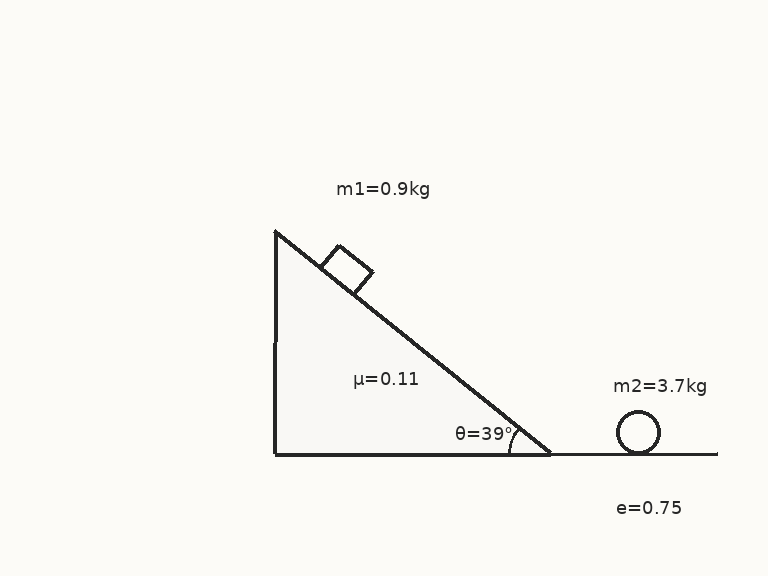ball: (614, 408, 662, 456)
block: (318, 243, 373, 297)
ramp: (273, 230, 551, 456)
